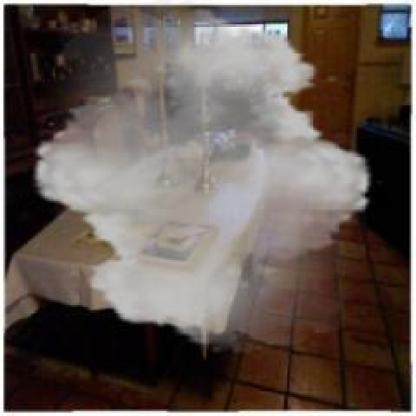Smoke: (19, 1, 387, 353)
